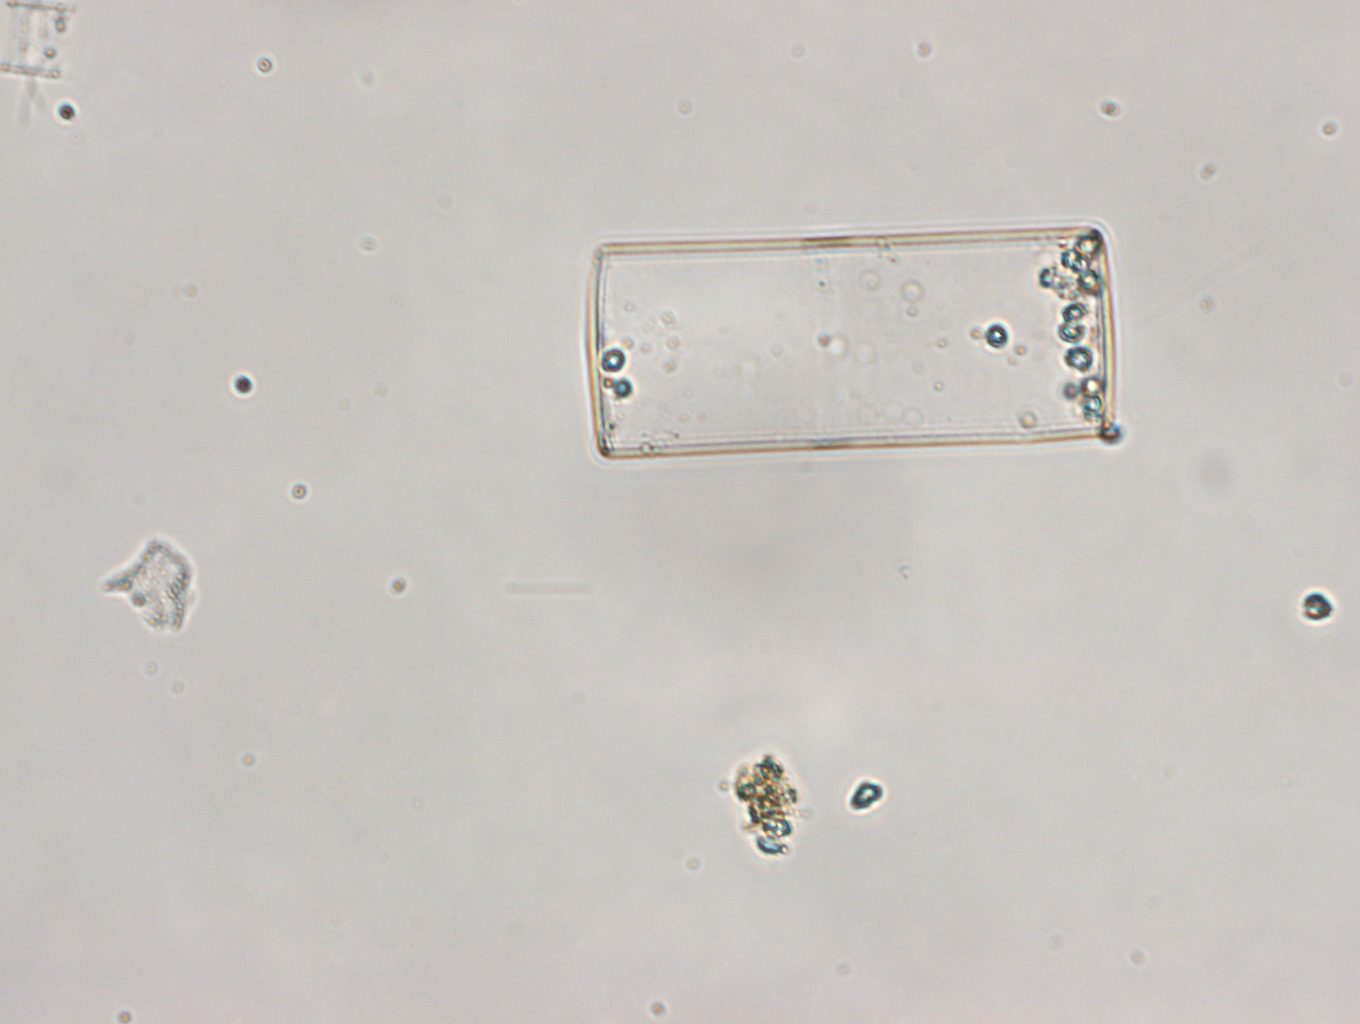guinardia flaccida: (587, 221, 1117, 457)
